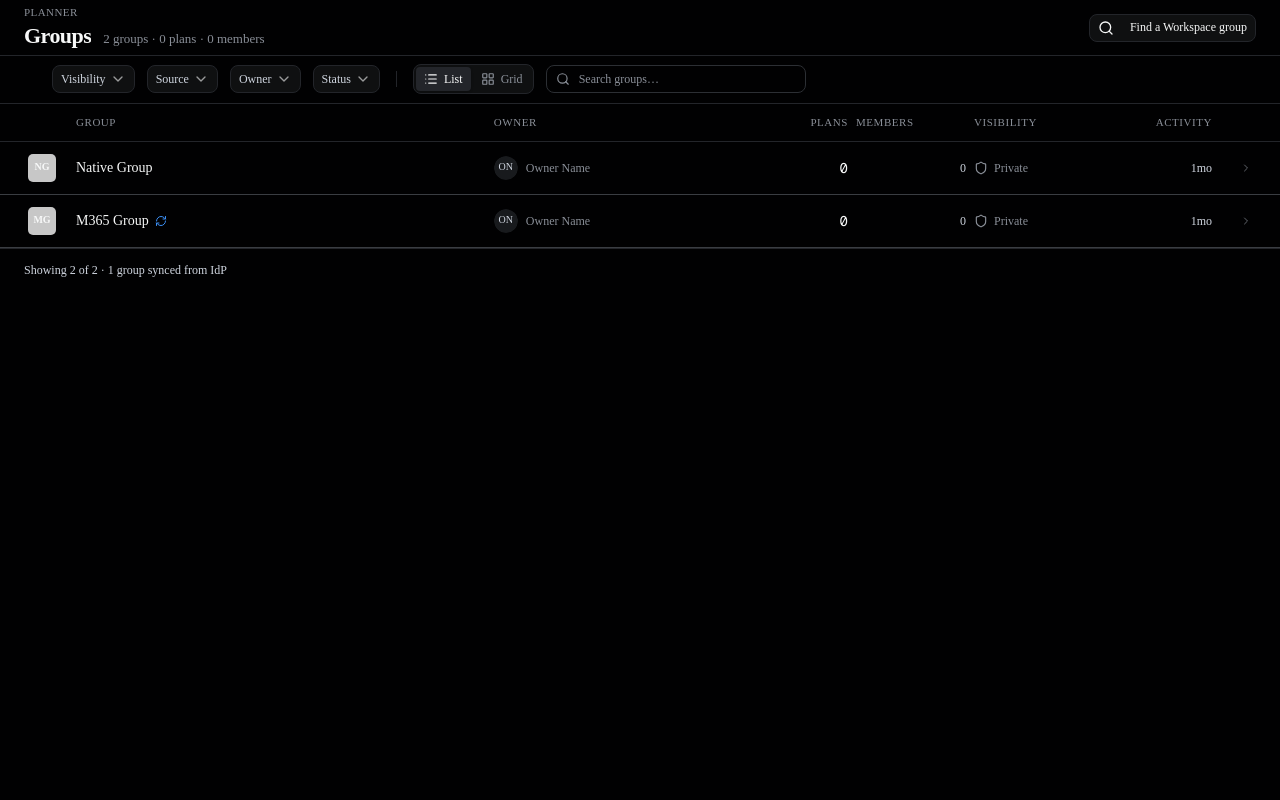
Test: GroupsPage › source filter null (Any) shows all groups
Expected: the link "Native Group" is shown, x1=0 y1=142 x2=1279 y2=194
Apply a filter then clear it
Click the button "Source": point(182, 79) x1=147 y1=65 x2=218 y2=93
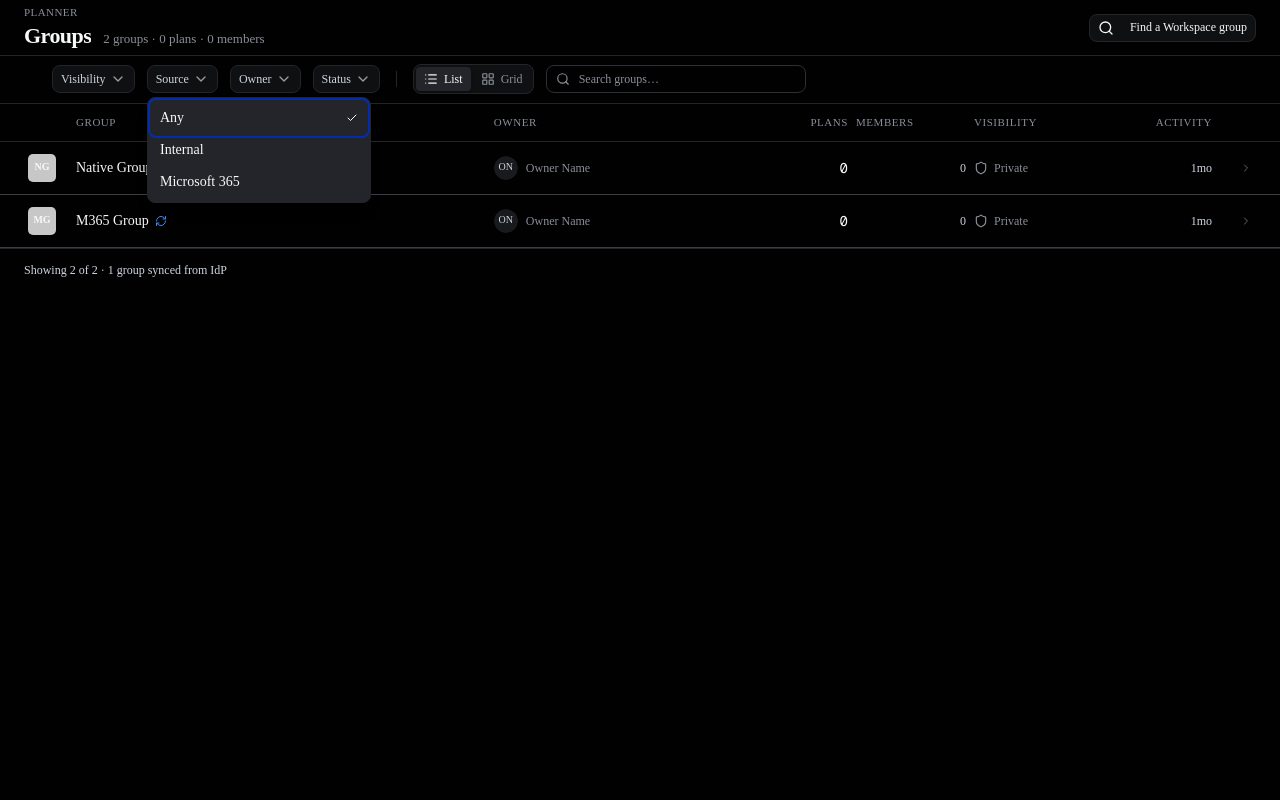
Click the button "Internal": point(259, 150) x1=152 y1=134 x2=366 y2=166
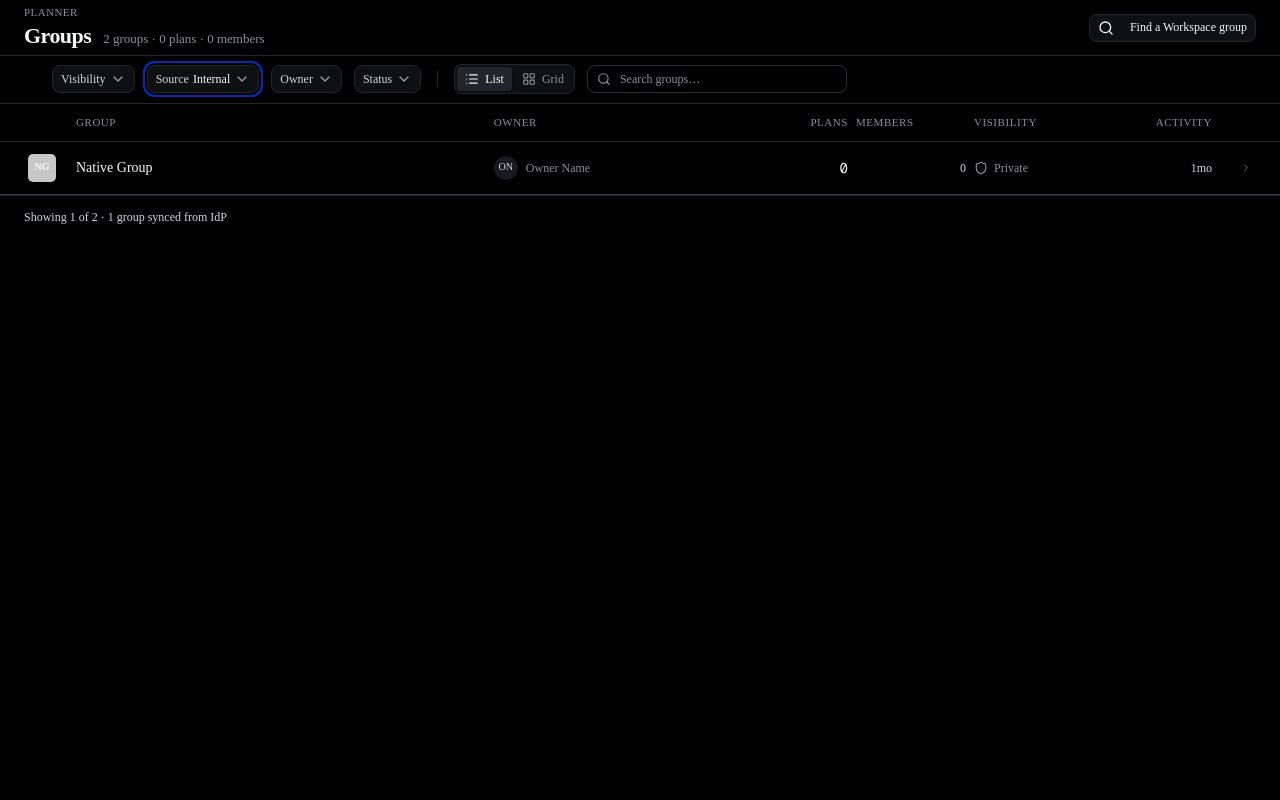
Now the link "M365 Group" is gone
Clear filter via "Any"
Click the button "Source Internal": point(203, 79) x1=147 y1=65 x2=259 y2=93
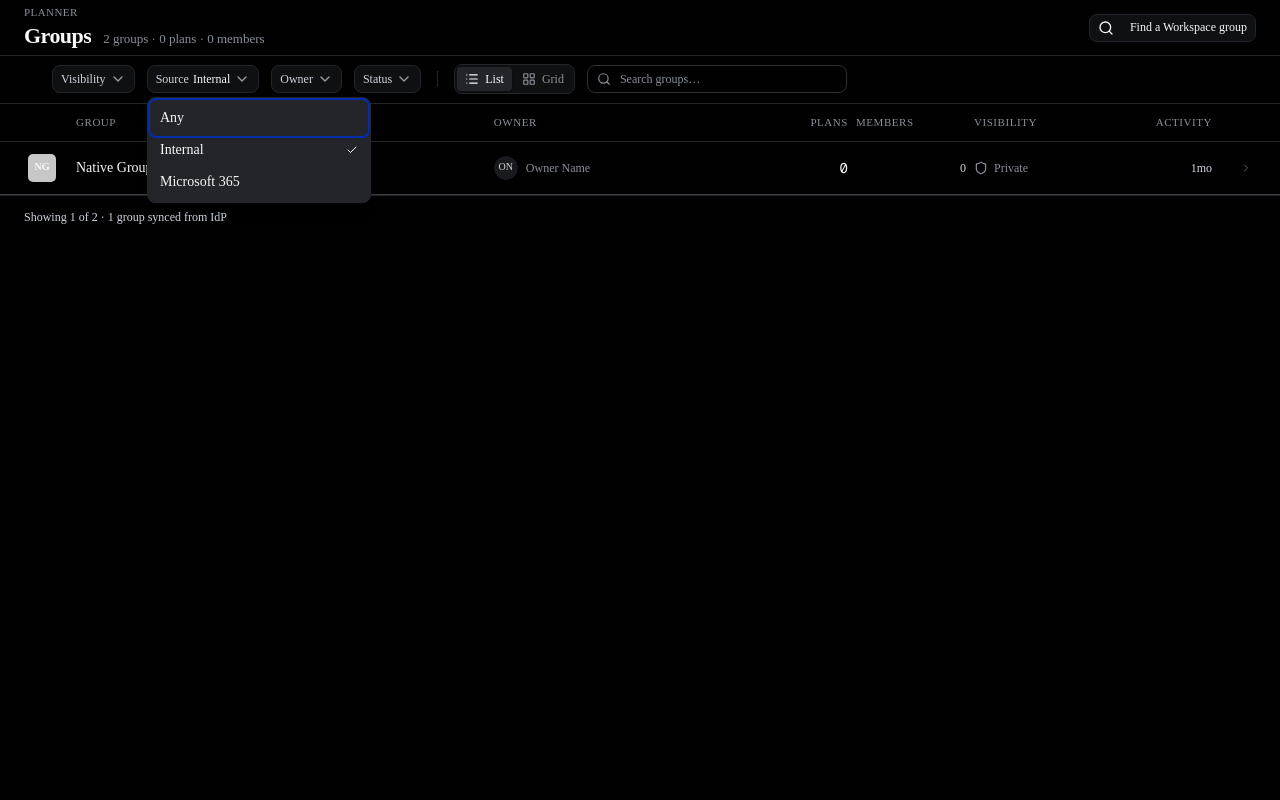
Click the button "Any": point(259, 118) x1=152 y1=102 x2=366 y2=134
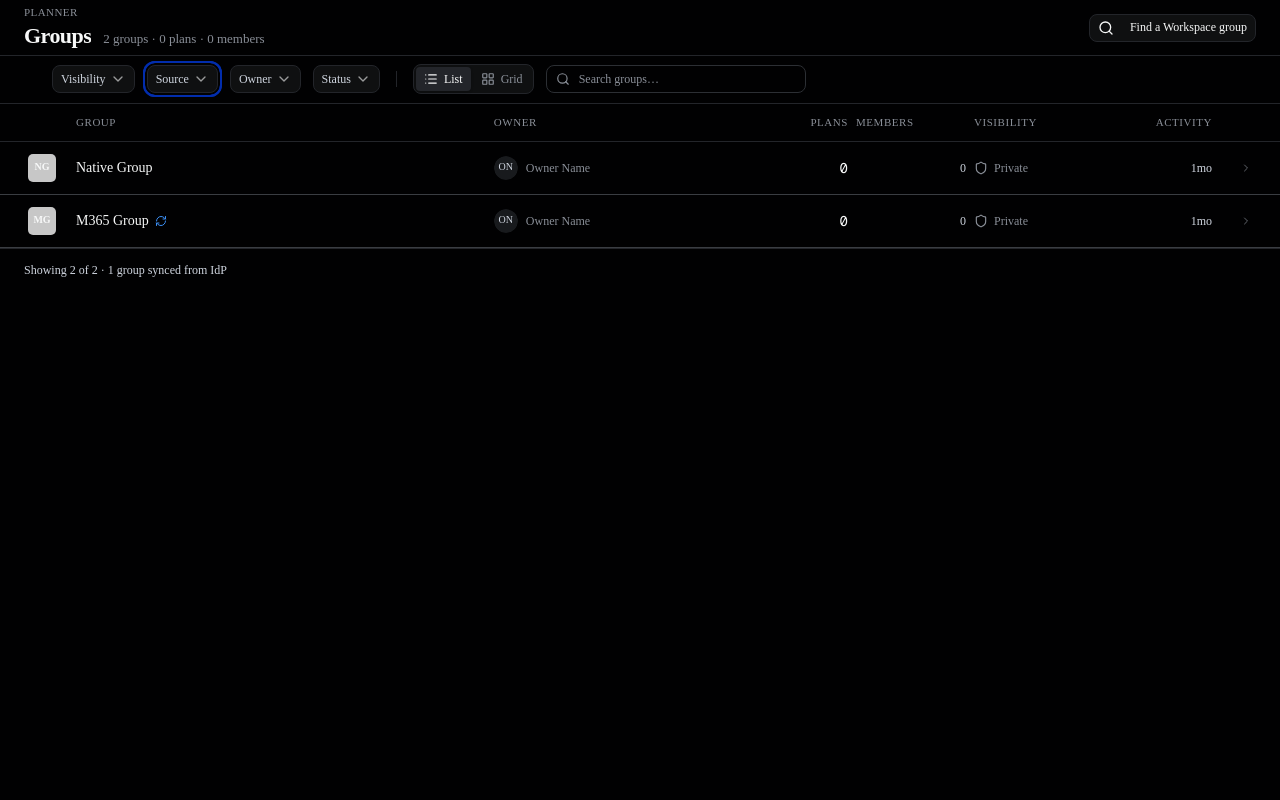
Expected: the text "Native Group" is shown, x1=76 y1=160 x2=153 y2=174
Now the text "M365 Group" is shown, box x1=76 y1=212 x2=167 y2=228
